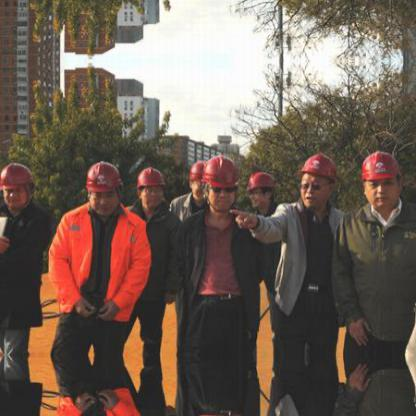helmet: (295, 150, 343, 212), (359, 150, 404, 212), (83, 158, 125, 216), (202, 152, 240, 210), (0, 158, 37, 216), (134, 166, 170, 212), (244, 170, 278, 209), (187, 160, 207, 204)
